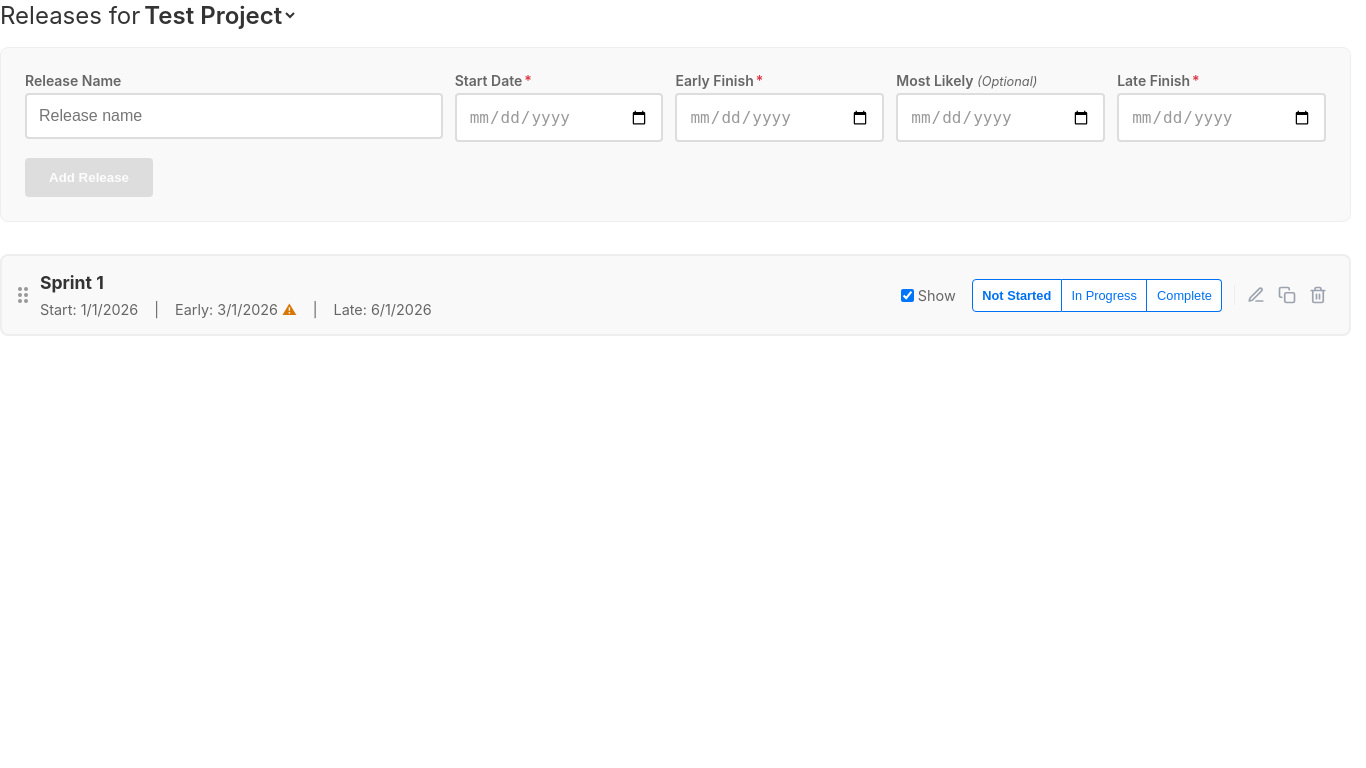
Test: ReleasesTab › delete release › shows confirmation dialog on Delete click
Expected: the text "Sprint 1" is shown, [40,272,104,293]
Click the button named "Delete release": (1318, 295) [1304,280,1333,310]
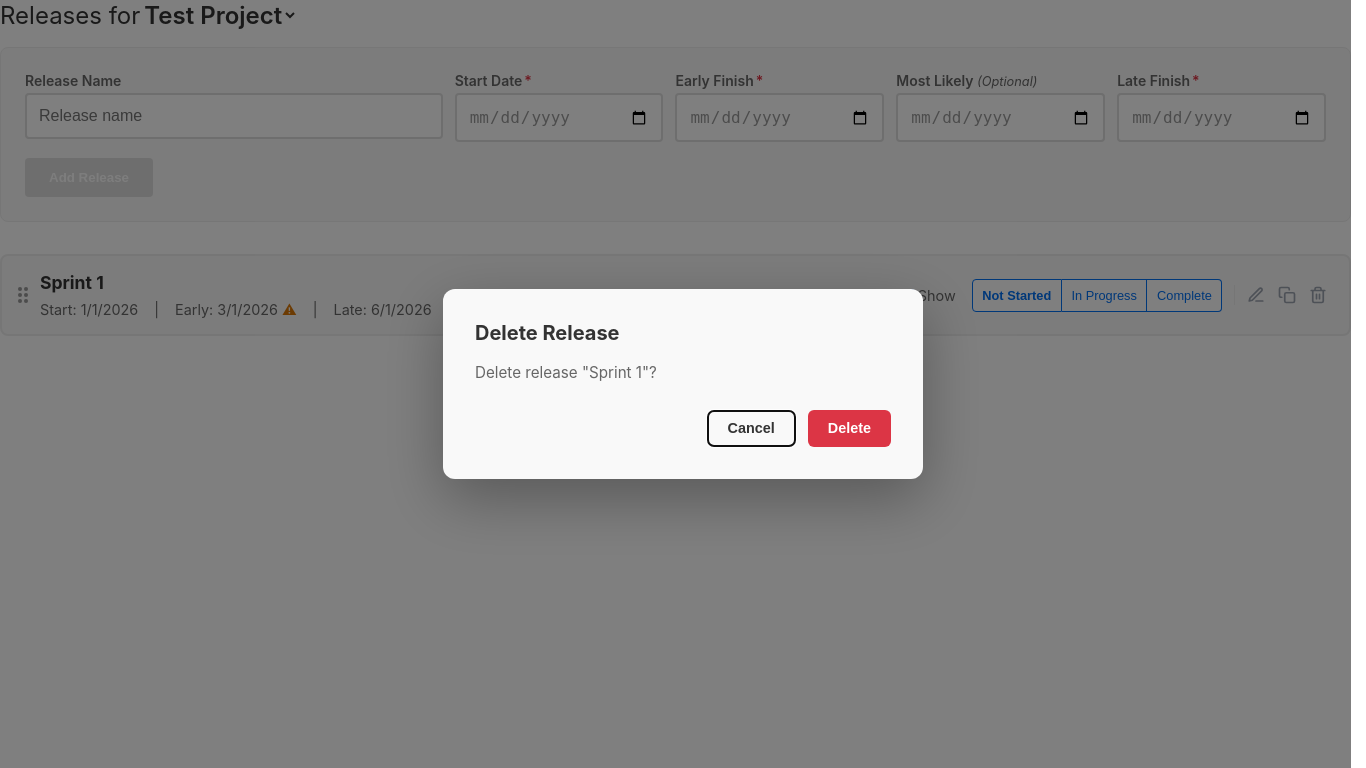
Expected: the heading "Delete Release" is shown, [475,321,620,345]
Expected: the text "Delete release \"Sprint 1\"?" is shown, [475,363,657,382]
